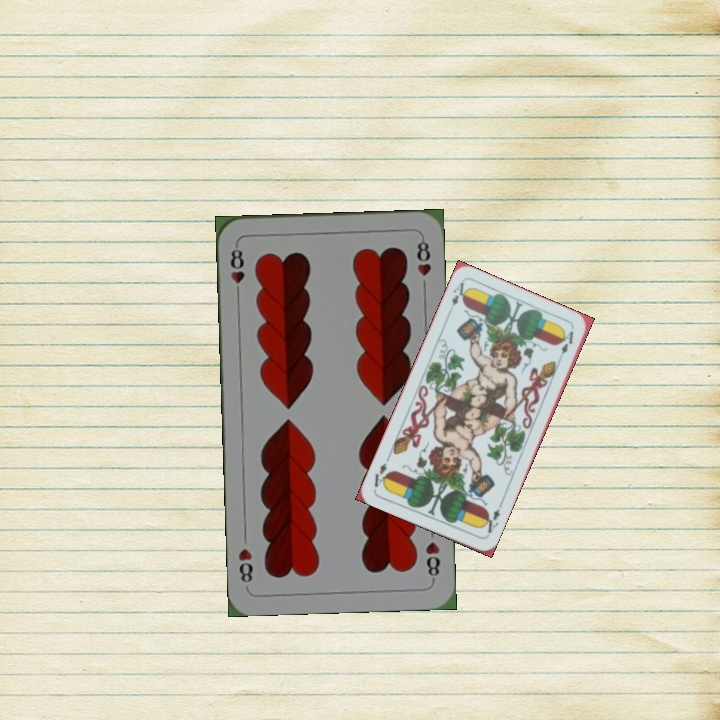EA: (478, 500, 504, 538), (447, 278, 471, 308)
H8: (226, 241, 247, 300), (421, 537, 443, 583)
